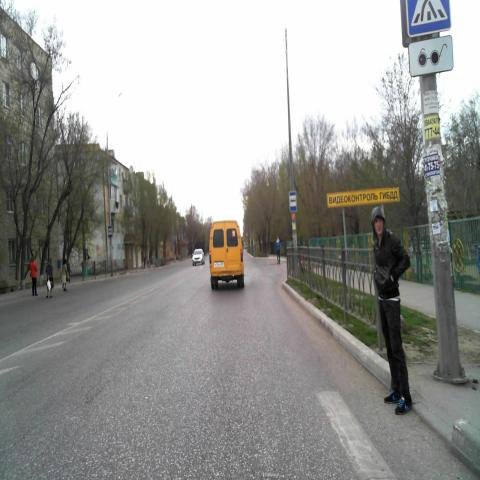8_15: (408, 38, 452, 79)
